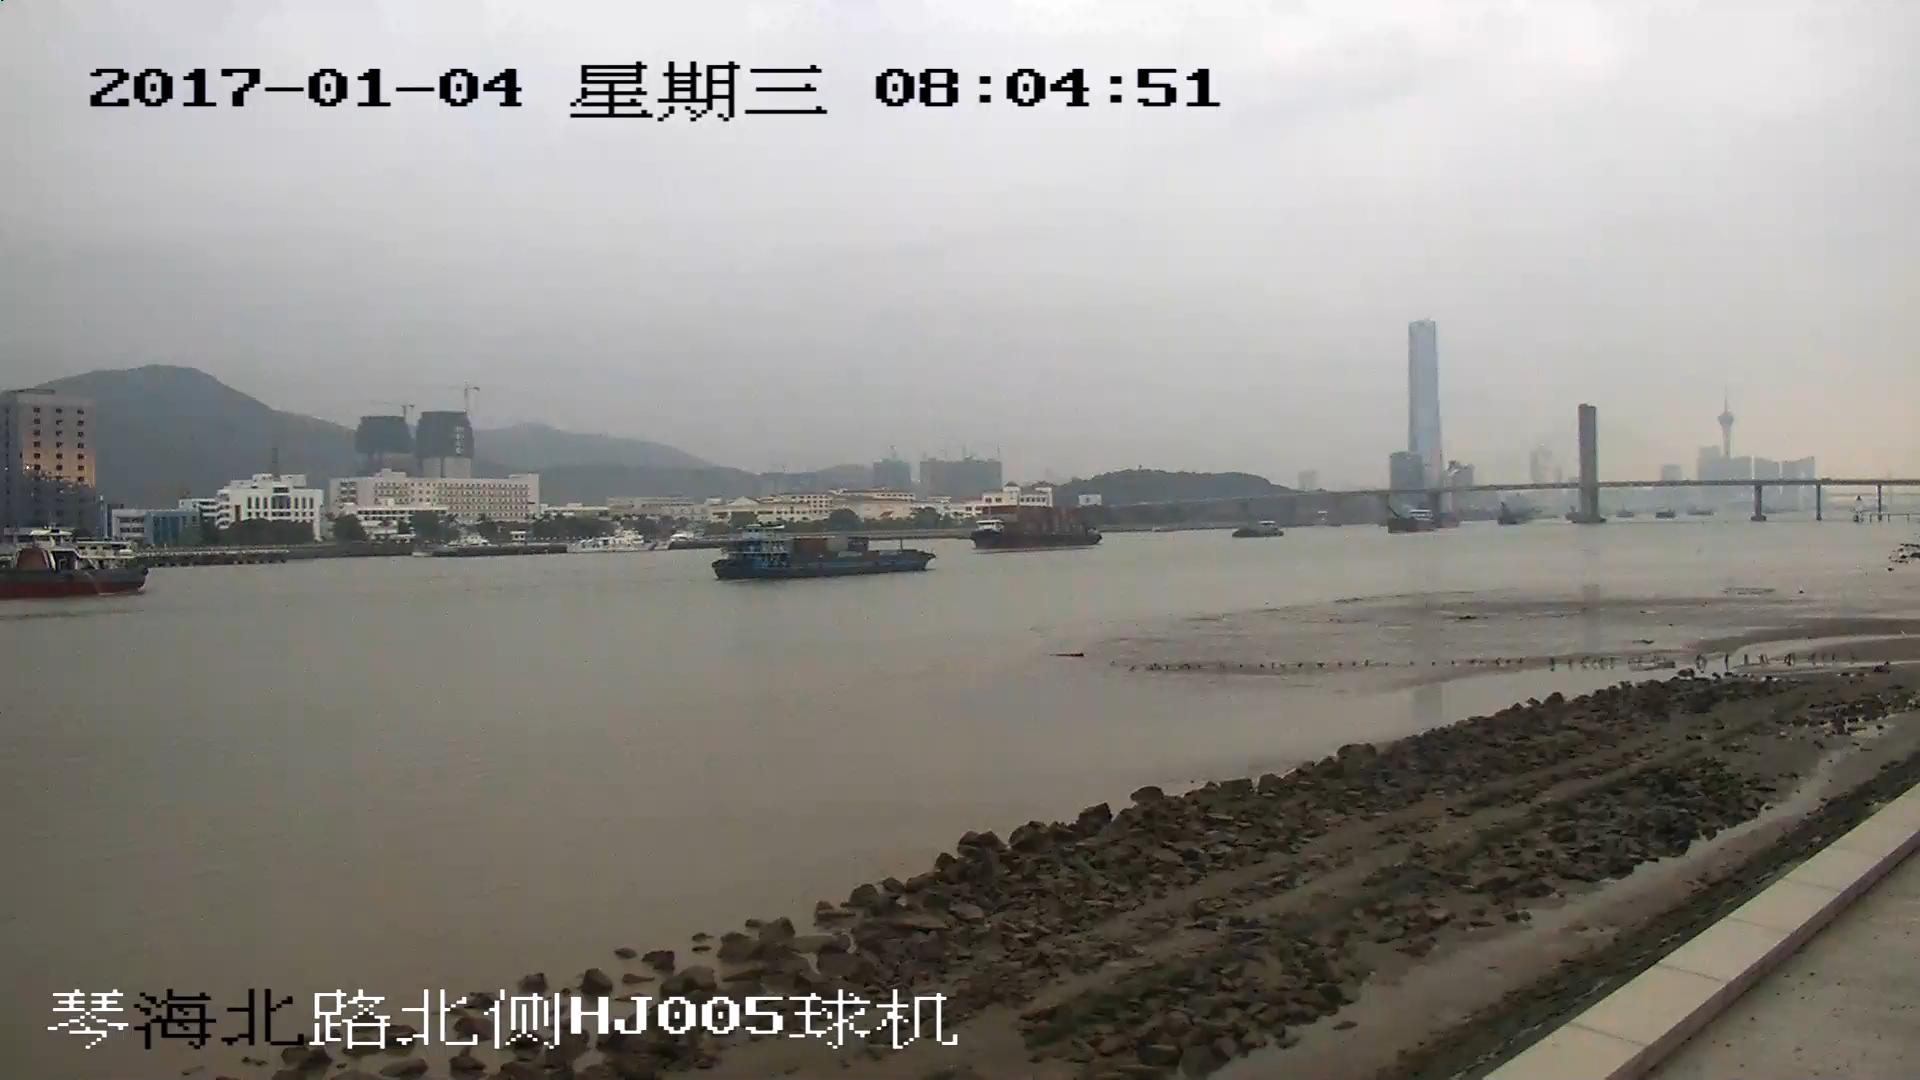container ship: (717, 542, 935, 575), (970, 505, 1107, 545)
